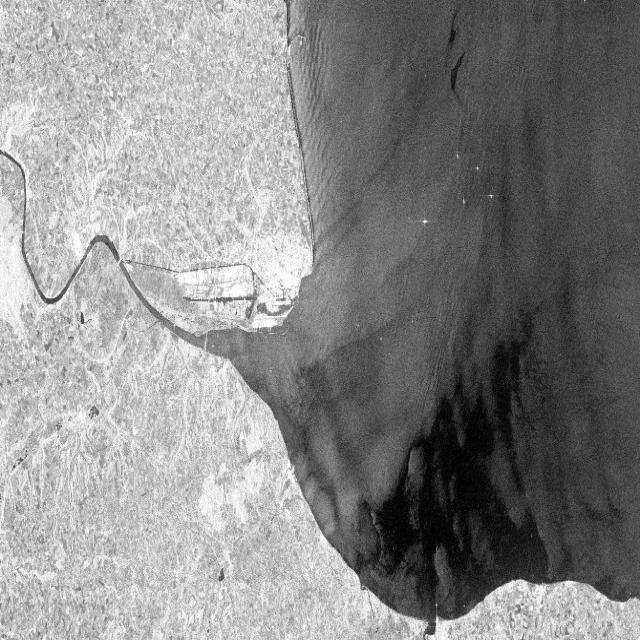look-alike: (347, 313, 551, 579)
oil-spill: (444, 4, 471, 112)
ship: (418, 210, 431, 234), (486, 186, 497, 208), (473, 158, 484, 179), (460, 189, 468, 211), (454, 146, 462, 164)
